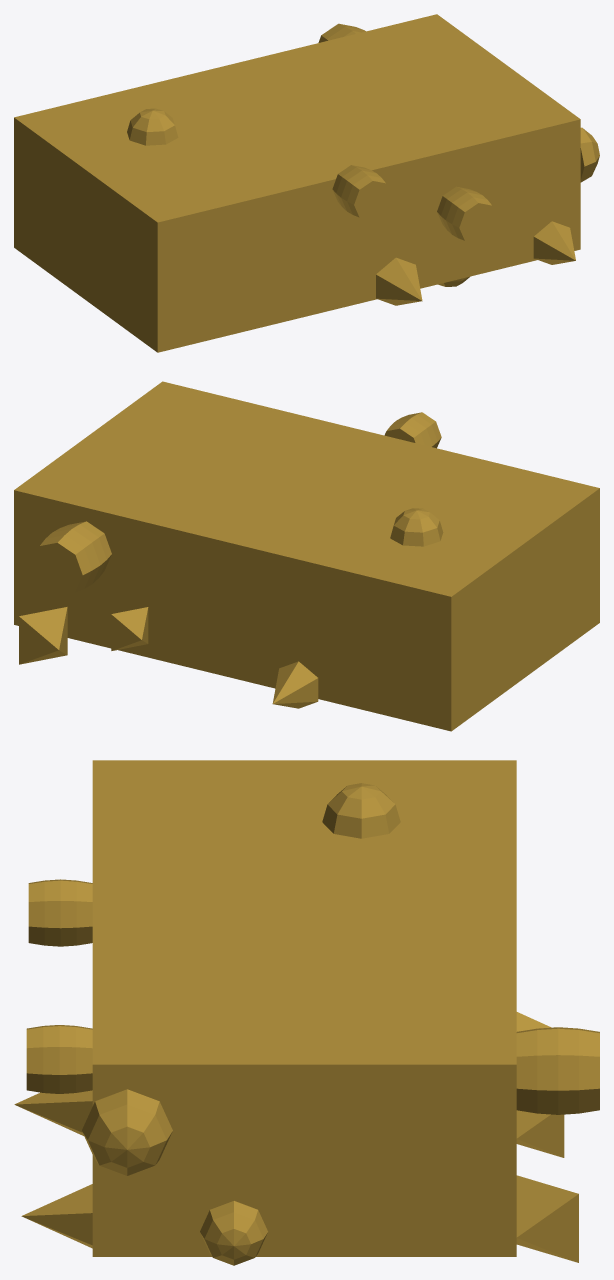
The model's file is object05_medium.glb.
3 views of the same model, one above another, from view 1: azimuth 30°, elevation 25°; view 2: azimuth 150°, elevation 25°; view 3: azimuth 270°, elevation 25° (orthographic). The views are drawn at different scales.
Visible parts, largest first — view 1: object05_medium; view 2: object05_medium; view 3: object05_medium.
Part boxes in pixels (left/top/right/bottom): object05_medium: left=14, top=14, right=599, bottom=352; object05_medium: left=14, top=381, right=599, bottom=731; object05_medium: left=14, top=760, right=599, bottom=1265.
Size of the model in its own units: 3.62 by 1.38 by 2.76.
